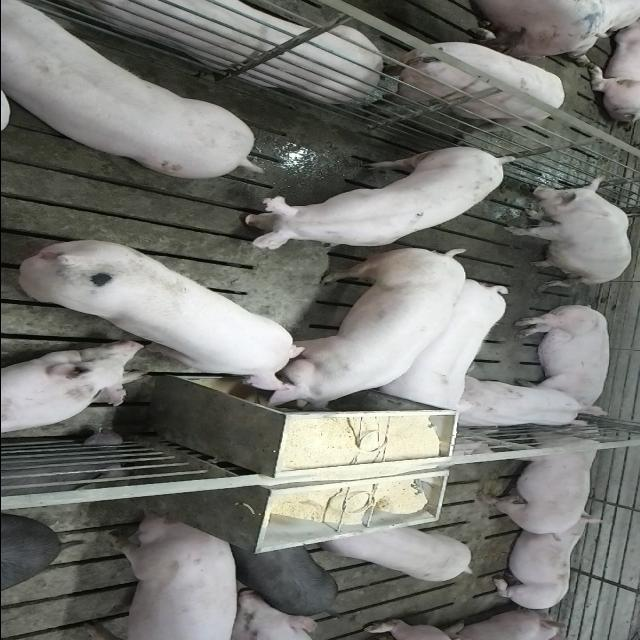Feeding: (16, 238, 306, 394), (248, 250, 466, 418)
Lateral_lying: (511, 302, 612, 418)
Sitting: (500, 174, 632, 286)
Standing: (1, 0, 258, 176), (230, 144, 512, 248), (358, 34, 565, 132), (90, 514, 245, 639), (378, 278, 512, 411), (472, 422, 612, 538), (320, 526, 480, 587), (223, 542, 337, 618)
Sternal_lying: (0, 344, 147, 438), (487, 521, 606, 611), (448, 378, 590, 432)
